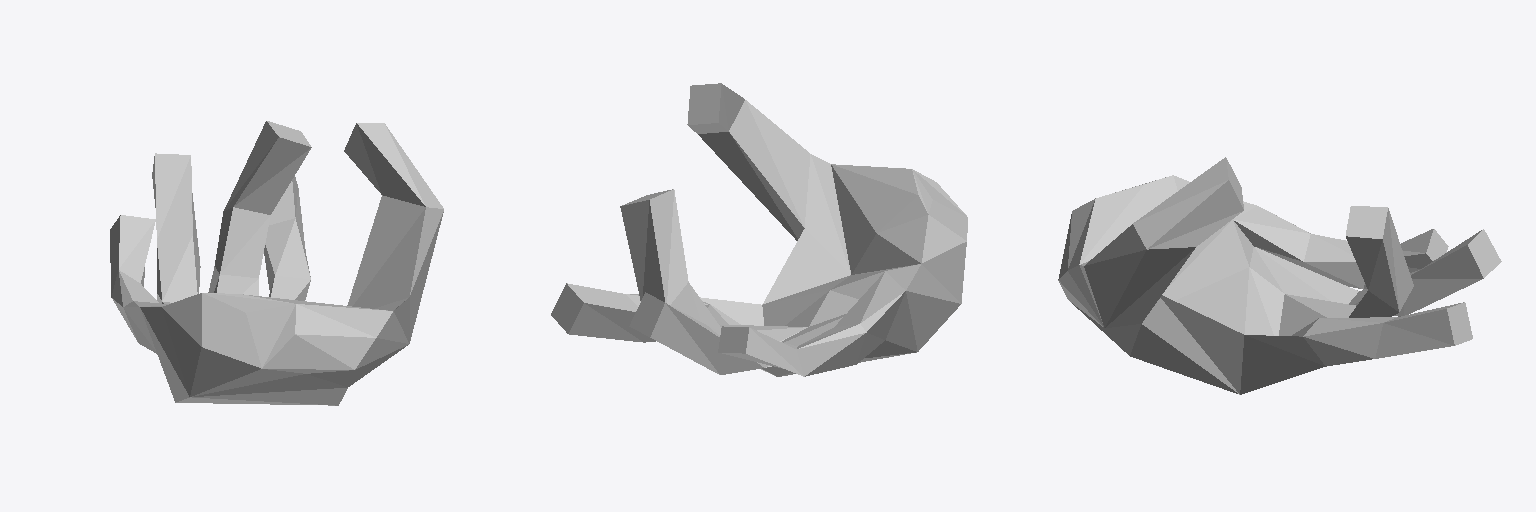
File: OcarinaHand10.obj
The picture shows the model from 3 angles: view 1: azimuth 30°, elevation 25°; view 2: azimuth 150°, elevation 25°; view 3: azimuth 270°, elevation 25°; orthographic projection.
Parts seen in each view (by area): view 1: Converted object 0; view 2: Converted object 0; view 3: Converted object 0.
Boxes of the visible parts, x1,y1,x2,y2 form: Converted object 0: [110, 121, 443, 405]; Converted object 0: [551, 83, 967, 376]; Converted object 0: [1058, 157, 1501, 394].
Size of the model in its own units: 4.17 by 4.14 by 6.16.